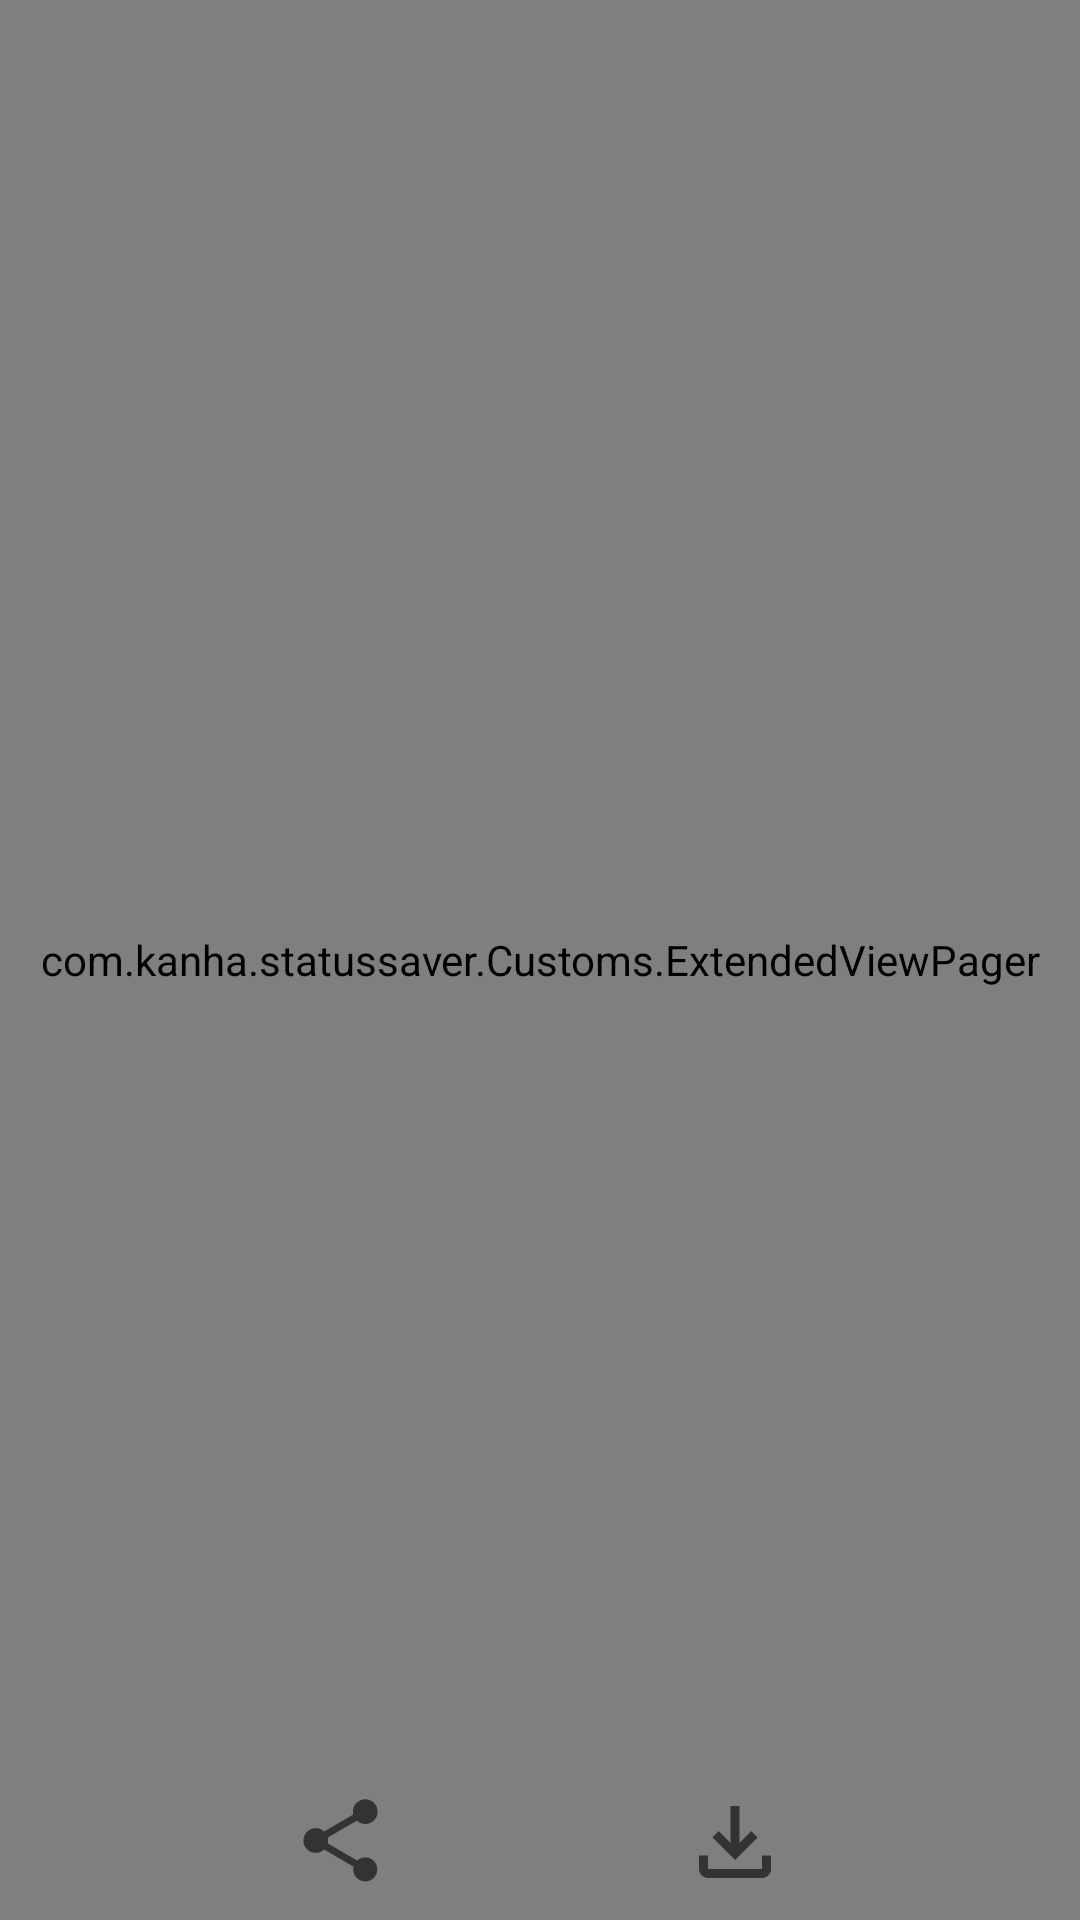

Icon bounding boxes for this 1080w x 1920h phone screenshot, format (x1, y1, x2, y2):
file download: (699, 1806, 771, 1878)
share: (303, 1799, 378, 1882)
